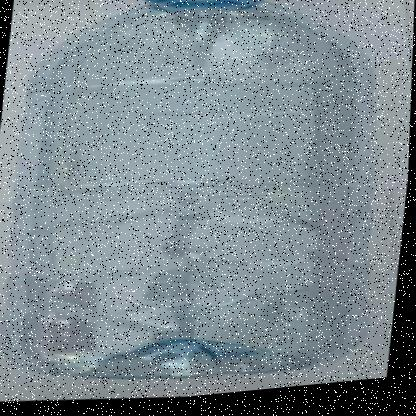open bottle: (6, 1, 416, 127)
